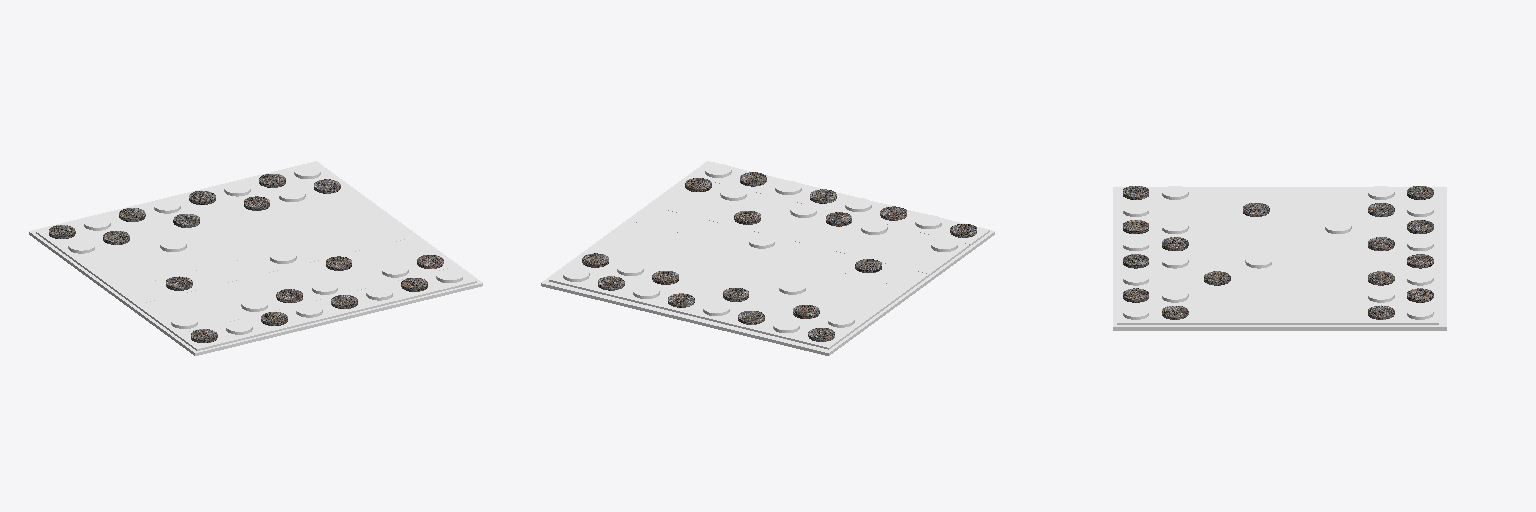
3 views of the same model, side by side, from view 1: azimuth 30°, elevation 25°; view 2: azimuth 150°, elevation 25°; view 3: azimuth 270°, elevation 25° (orthographic).
Parts seen in each view (by area): view 1: top_2, front_6, top_182, top_164, top_230, top_236, top_272, top_218, top_248, top_278, top_290, top_302 (+22 smaller); view 2: top_2, back_5, top_230, top_128, top_152, top_212, top_218, top_122, top_194, top_242, top_248, top_254 (+22 smaller); view 3: top_2, right_4, top_212, top_230, top_236, top_242, top_326, top_218, top_302, top_200, top_104, top_122 (+22 smaller).
Boxes of the visible parts, x1=… form: top_2: x1=29, y1=161, x2=482, y2=352; front_6: x1=195, y1=283, x2=482, y2=355; top_182: x1=166, y1=250, x2=220, y2=272; top_164: x1=271, y1=224, x2=325, y2=246; top_230: x1=291, y1=239, x2=345, y2=261; top_236: x1=327, y1=230, x2=380, y2=253; top_272: x1=242, y1=271, x2=296, y2=293; top_218: x1=221, y1=256, x2=275, y2=278; top_248: x1=382, y1=237, x2=436, y2=259; top_278: x1=207, y1=279, x2=260, y2=302; top_290: x1=137, y1=296, x2=190, y2=319; top_302: x1=192, y1=303, x2=246, y2=325; top_2: x1=541, y1=161, x2=994, y2=352; back_5: x1=541, y1=283, x2=828, y2=355; top_230: x1=699, y1=223, x2=753, y2=245; top_128: x1=694, y1=261, x2=748, y2=283; top_152: x1=609, y1=221, x2=663, y2=243; top_212: x1=805, y1=249, x2=858, y2=271; top_218: x1=770, y1=240, x2=823, y2=262; top_122: x1=730, y1=270, x2=783, y2=292; top_194: x1=855, y1=281, x2=908, y2=303; top_242: x1=629, y1=206, x2=683, y2=228; top_248: x1=650, y1=191, x2=703, y2=213; top_254: x1=685, y1=200, x2=738, y2=222; top_2: x1=1113, y1=187, x2=1446, y2=326; right_4: x1=1113, y1=327, x2=1446, y2=330; top_212: x1=1238, y1=221, x2=1278, y2=237; top_230: x1=1238, y1=272, x2=1278, y2=288; top_236: x1=1238, y1=289, x2=1278, y2=305; top_242: x1=1238, y1=306, x2=1278, y2=322; top_326: x1=1157, y1=272, x2=1197, y2=288; top_218: x1=1238, y1=238, x2=1278, y2=254; top_302: x1=1157, y1=204, x2=1197, y2=220; top_200: x1=1238, y1=187, x2=1278, y2=203; top_104: x1=1319, y1=187, x2=1358, y2=203; top_122: x1=1319, y1=238, x2=1358, y2=254.
Size of the model in its own units: 30.48 by 0.8595 by 30.56.
18 materials, 1 textured.